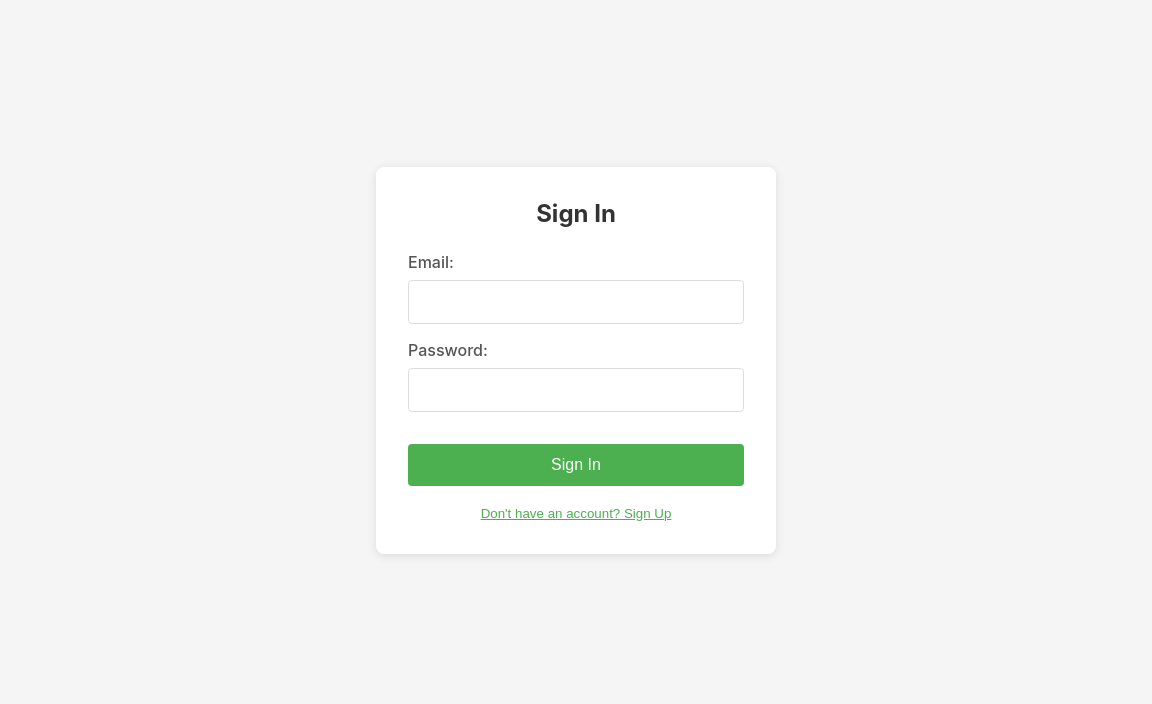
Test: Delete Post › deletes a post successfully
Type "test@example.com" into the field with id "email" at (576, 302), box [408,280,744,324]
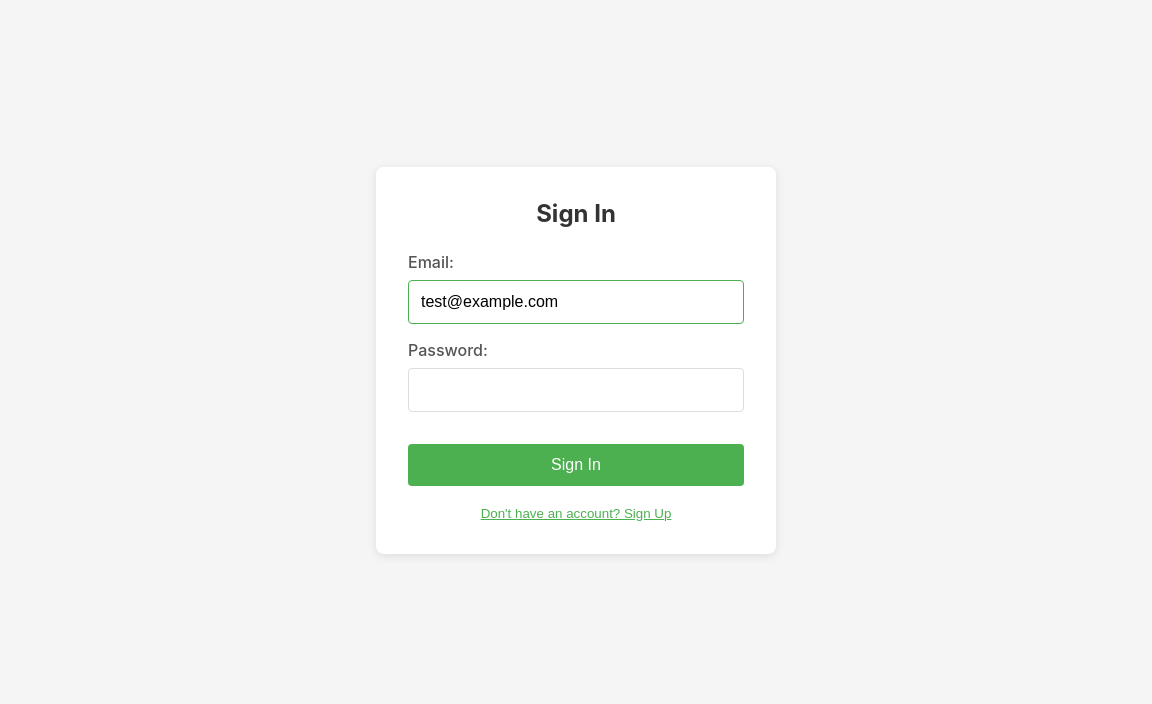
Type "password123" into the password field labelled "Password:" at (576, 390), box [408,368,744,412]
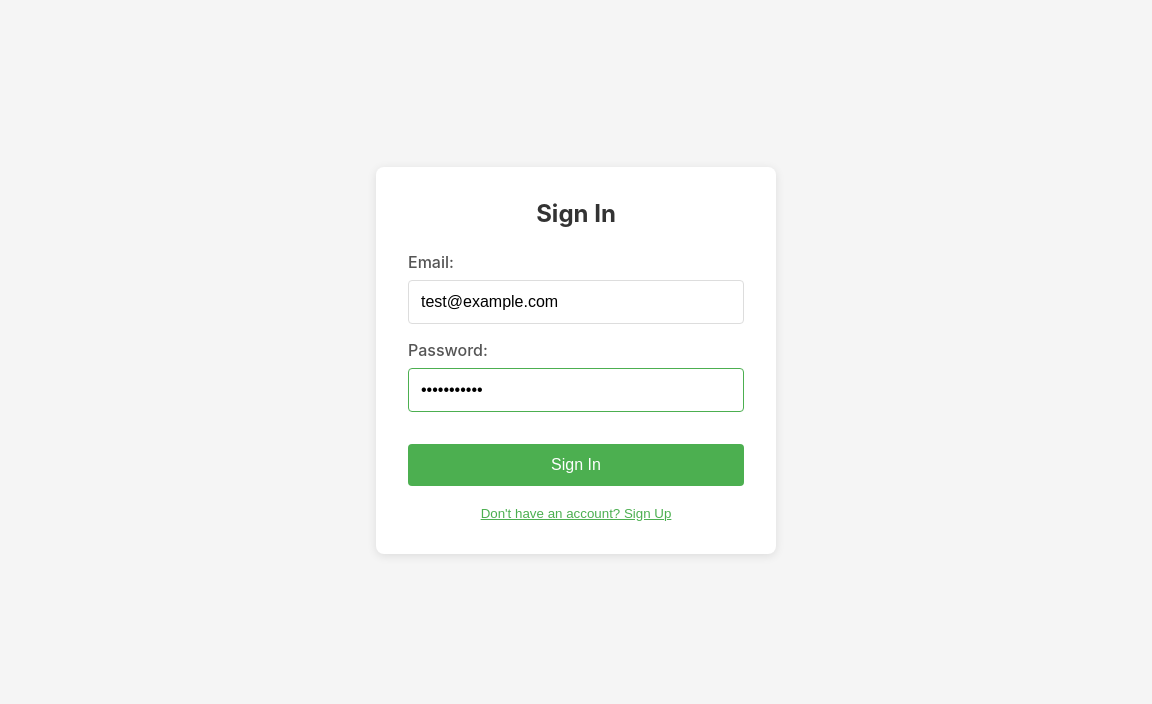
Click the submit button at (576, 465), box [408,444,744,486]
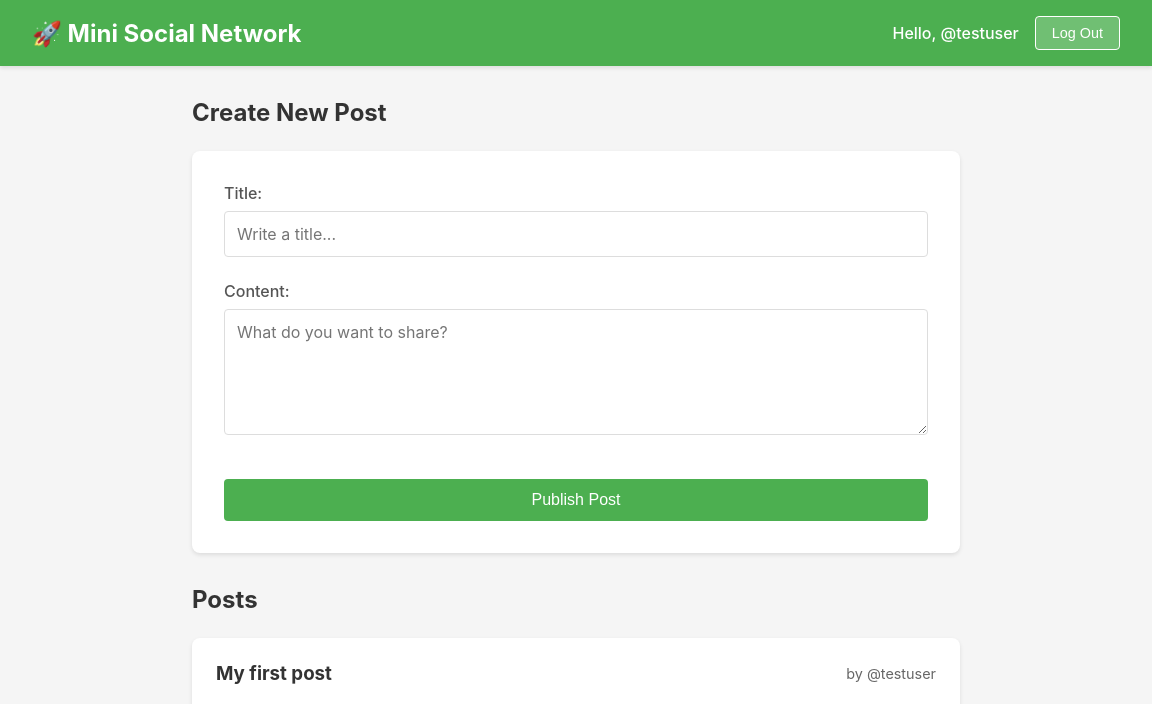
Scroll
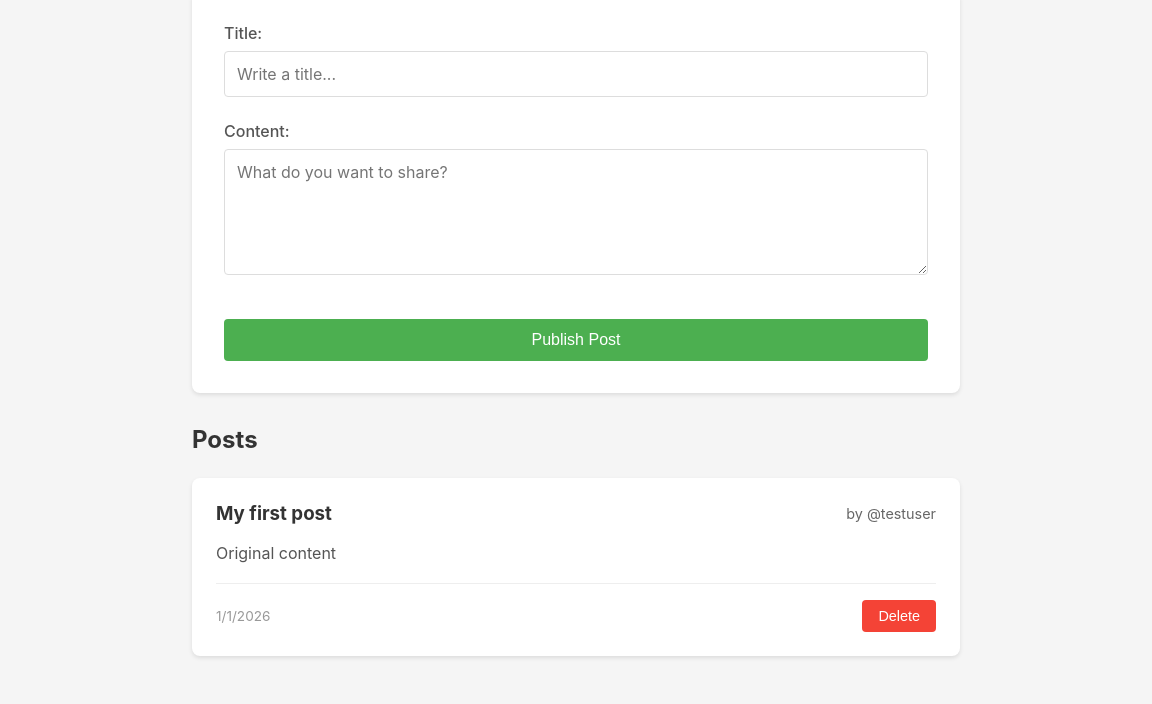
Click the button "Delete" at (899, 616), box [862,600,936,632]
(page scrolled)
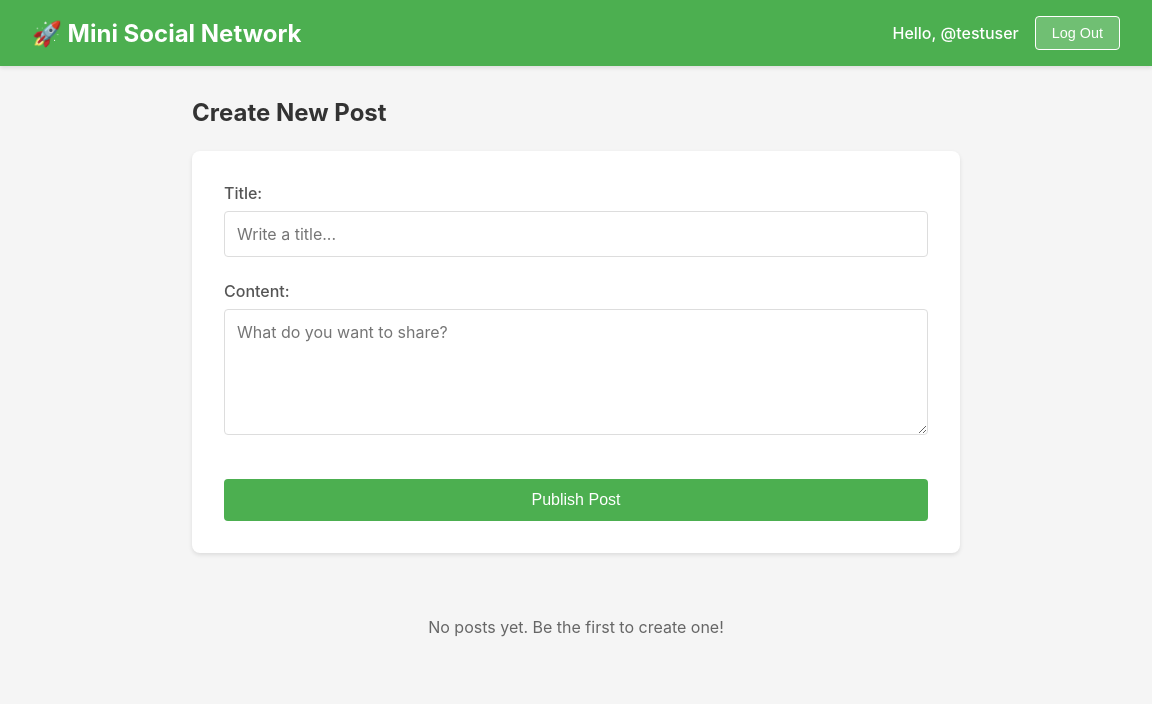
Check: the heading "My first post" is gone
Check: the text "No posts yet" is shown, box [428,617,724,637]
